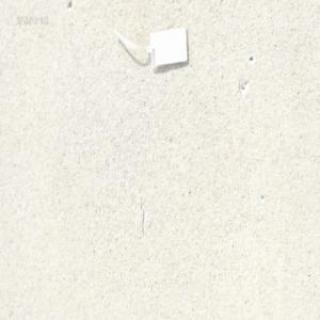LuggageTagtrack_idkeyframe: (110, 22, 188, 72)
